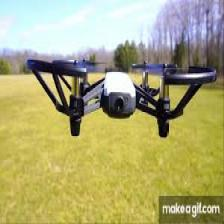drone: (25, 58, 218, 139)
